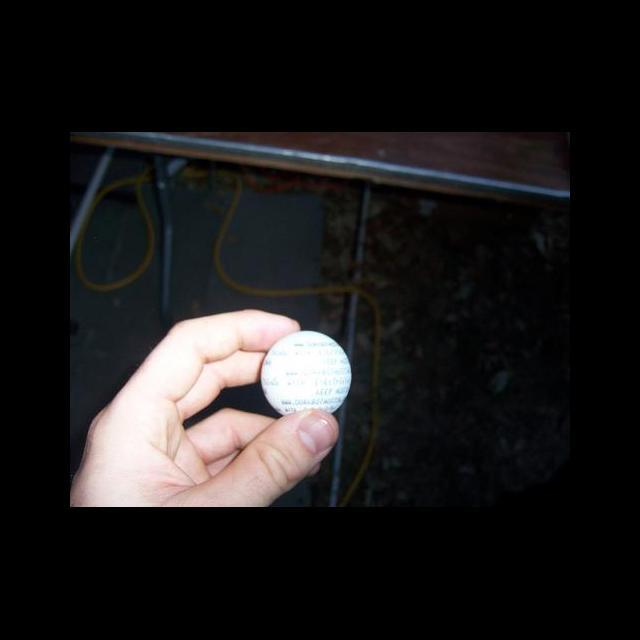ping-pong-ball: (259, 330, 353, 421)
